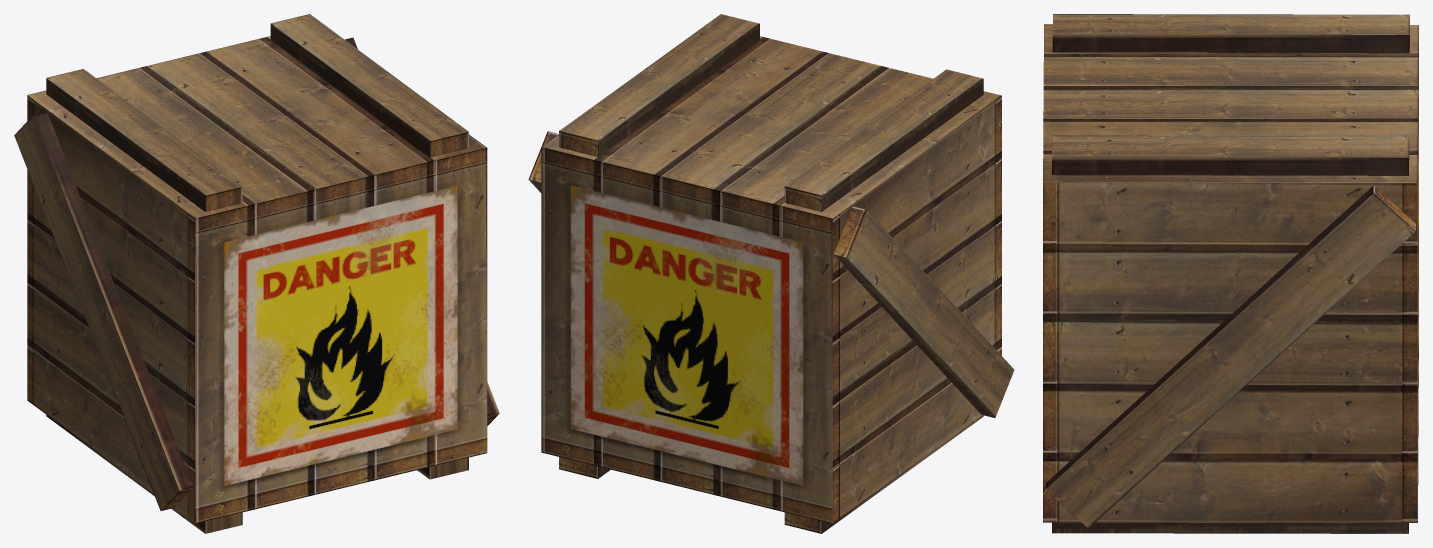
File: blastbox.fbx
The picture shows the model from 3 angles, left to right: view 1: azimuth 30°, elevation 25°; view 2: azimuth 150°, elevation 25°; view 3: azimuth 270°, elevation 25°; orthographic projection. The views are drawn at different scales.
Visible parts, largest first — view 1: polygon0; view 2: polygon0; view 3: polygon0.
Part boxes in pixels (bbox=[...]): polygon0: bbox=[14, 14, 499, 533]; polygon0: bbox=[528, 14, 1014, 533]; polygon0: bbox=[1043, 14, 1418, 533].
Bounding box in the file's own units: 8.8 × 8.88 × 8.04.
1 material, 1 textured.
